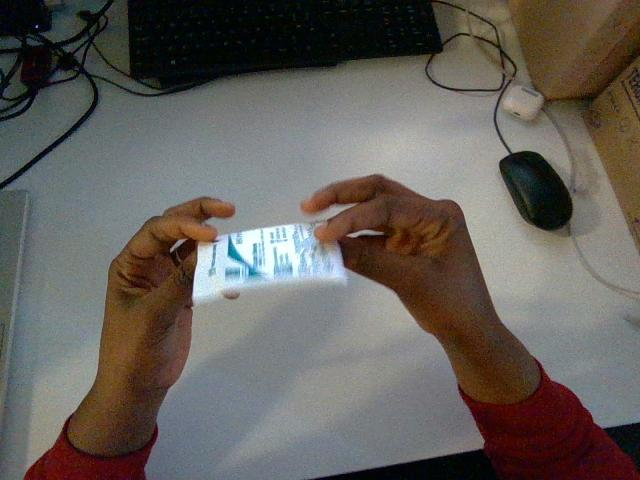gauze: (193, 223, 346, 304)
